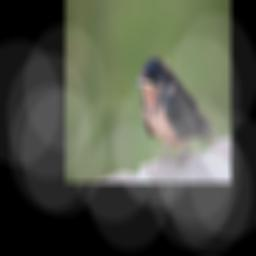Swallow: (134, 56, 217, 167)
